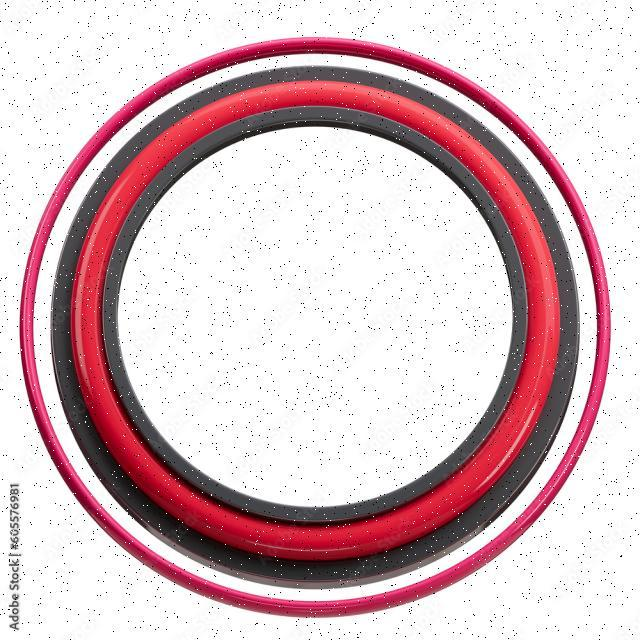Circle: (18, 33, 612, 622)
